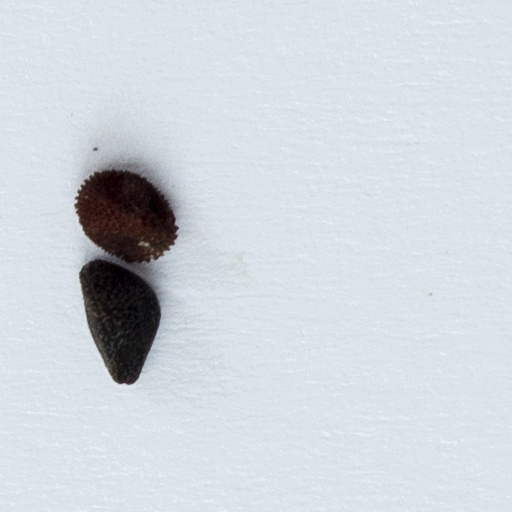Agrostemma-poly: (72, 165, 179, 262)
Convolvulus-poly: (78, 256, 164, 384)
